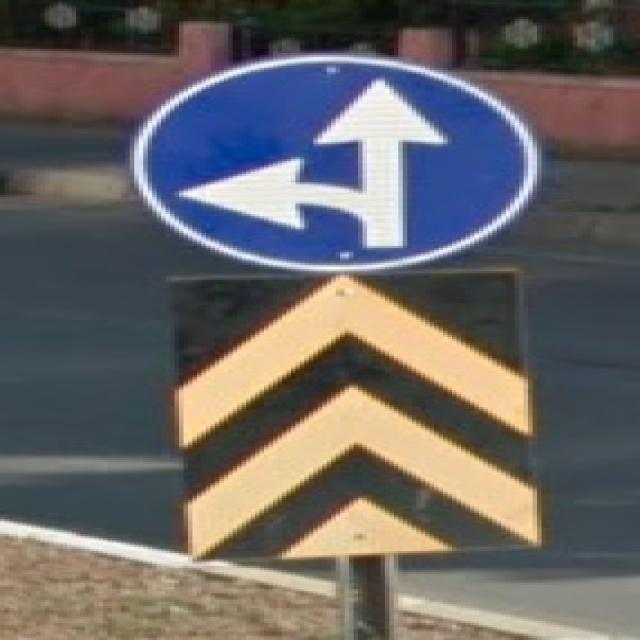Straight or Left: (135, 57, 538, 271)
